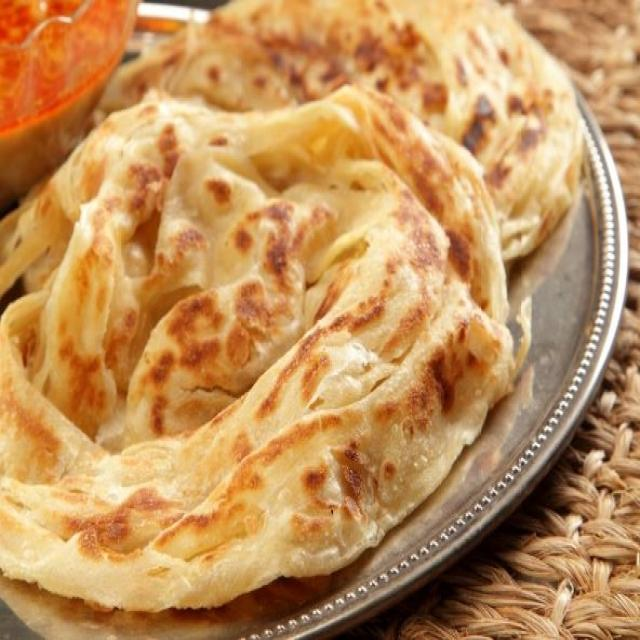Paratha: (11, 0, 493, 572)
